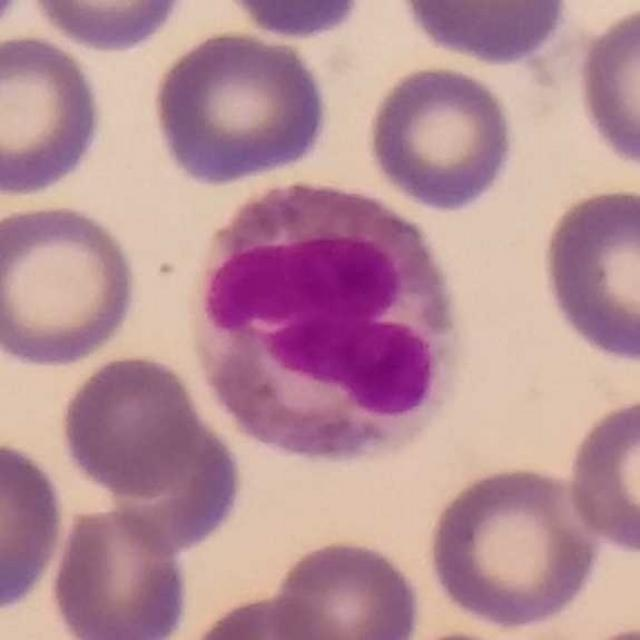eosino: (192, 177, 463, 468)
